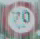Speed limit: (1, 1, 39, 37)
